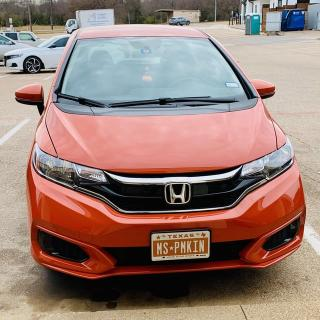license: (151, 228, 212, 263)
